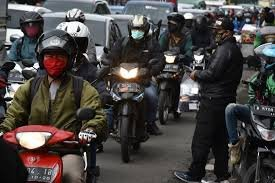motor: (102, 64, 157, 162), (1, 124, 77, 183), (237, 82, 275, 183), (157, 49, 182, 126)
